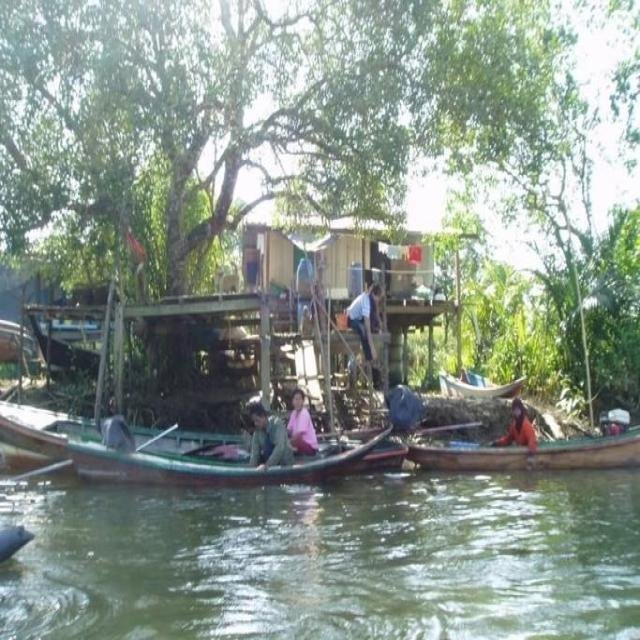boat: (0, 398, 401, 496), (408, 426, 640, 480)
